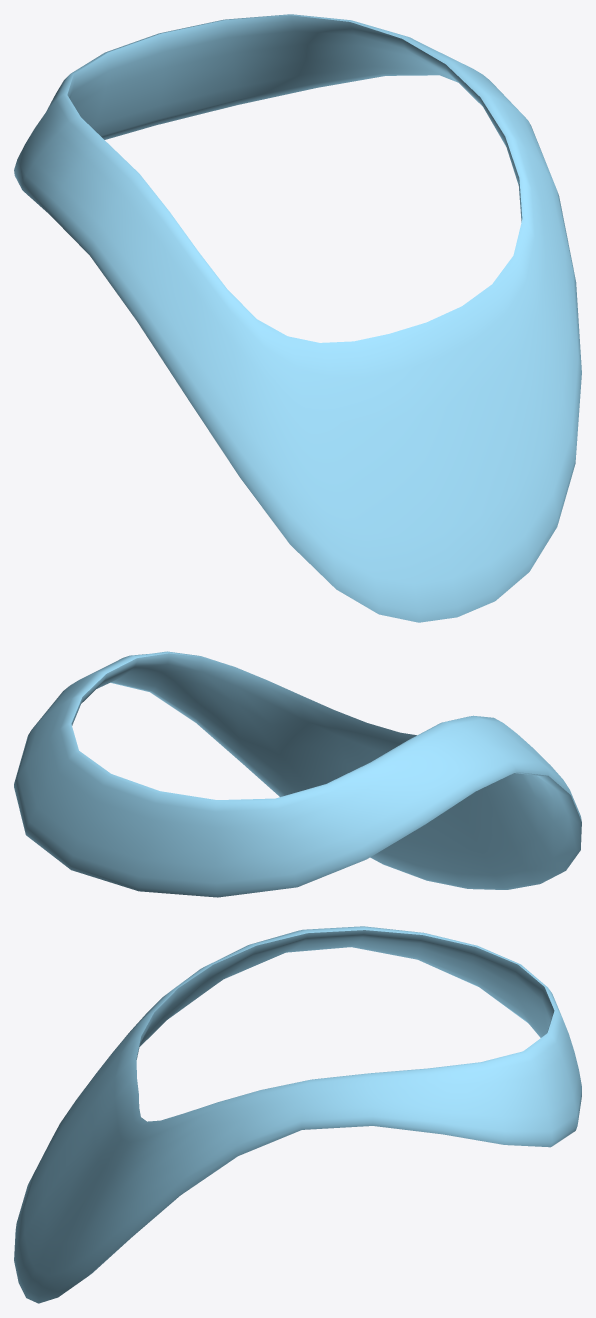
File: outfit_scarf.glb
3 views of the same model, one above another, from view 1: azimuth 30°, elevation 25°; view 2: azimuth 150°, elevation 25°; view 3: azimuth 270°, elevation 25° (orthographic). The views are drawn at different scales.
Parts seen in each view (by area): view 1: outfit_scarf; view 2: outfit_scarf; view 3: outfit_scarf.
Part boxes in pixels (<box>): outfit_scarf: <box>14,14,581,622</box>; outfit_scarf: <box>14,651,581,897</box>; outfit_scarf: <box>14,926,581,1303</box>.
Bounding box in the file's own units: 0.4046 × 0.3 × 0.5206.
